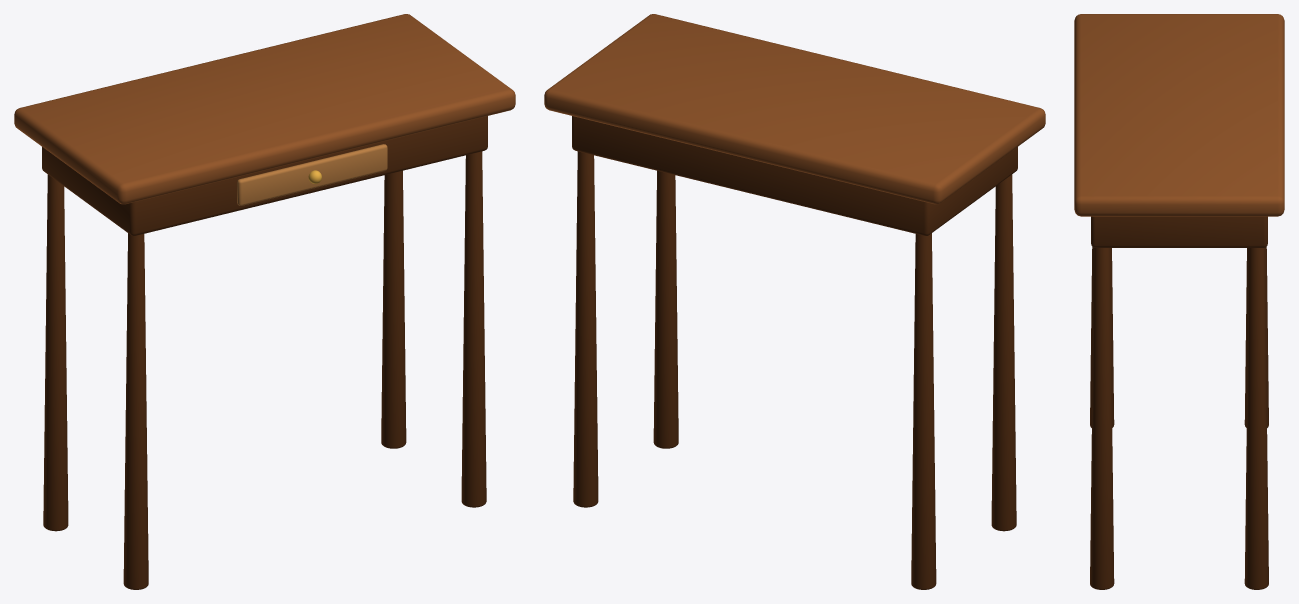
Rendered from console_table.glb.
3 renders of one model, left to right at view 1: azimuth 30°, elevation 25°; view 2: azimuth 150°, elevation 25°; view 3: azimuth 270°, elevation 25°, orthographic. The views are drawn at different scales.
Visible parts, largest first — view 1: console_table; view 2: console_table; view 3: console_table.
Part boxes in pixels (x1,y1,x2,y2): console_table: [14, 14, 515, 589]; console_table: [544, 14, 1045, 589]; console_table: [1074, 14, 1284, 589].
Size of the model in its own units: 0.8 by 0.8 by 0.38.
